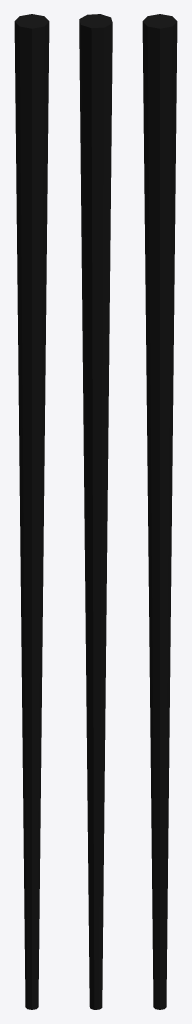
Rendered from chopstick.fbx.
The picture shows the model from 3 angles, left to right: view 1: azimuth 90°, elevation 25°; view 2: azimuth 210°, elevation 25°; view 3: azimuth 270°, elevation 25°; orthographic projection.
Visible parts, largest first — view 1: chopstick; view 2: chopstick; view 3: chopstick.
Part boxes in pixels (left/top/right/bottom): chopstick: left=14, top=14, right=49, bottom=1009; chopstick: left=79, top=14, right=112, bottom=1009; chopstick: left=142, top=14, right=177, bottom=1009.
Size of the model in its own units: 1.6 by 50 by 1.6.
1 material, 1 textured.
